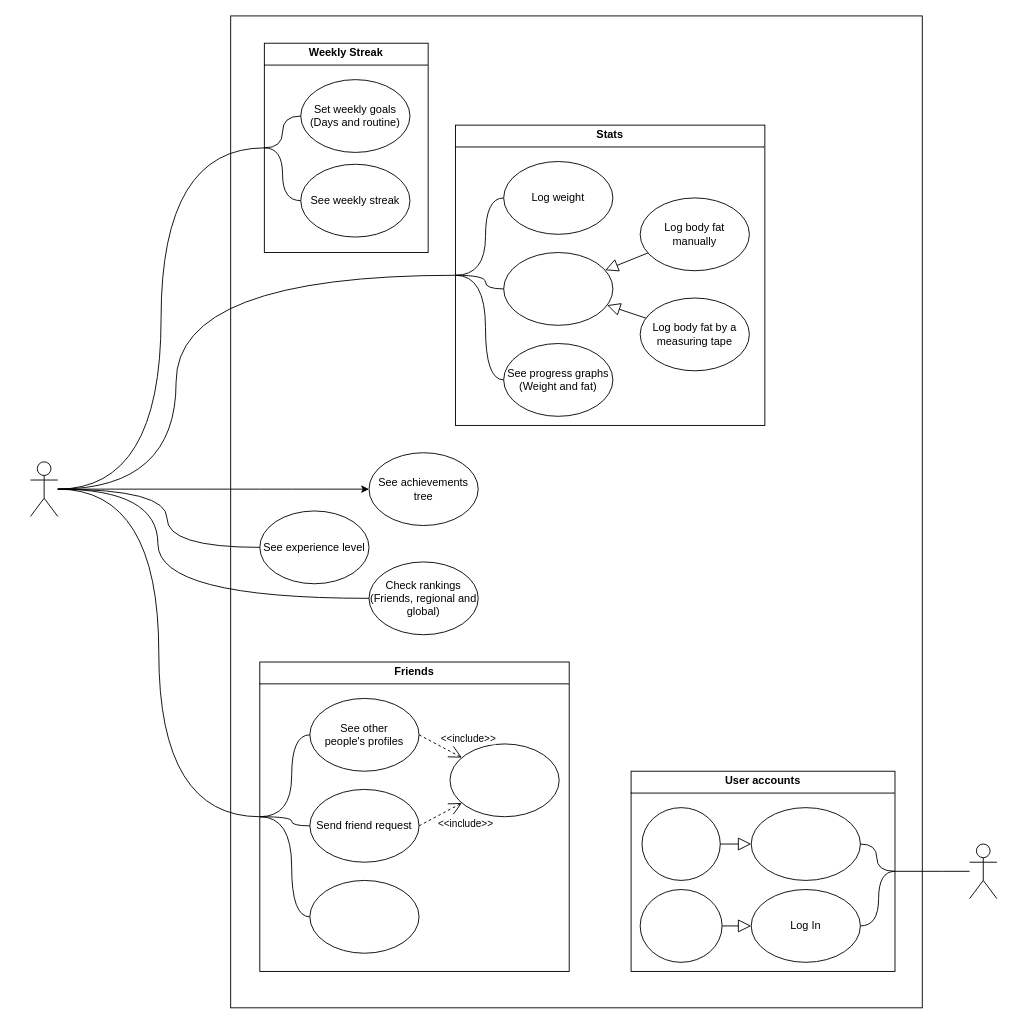
The diagram is 1035 pixels wide and 1024 high, and some of its shapes have lost their labels. The shapes that lost their labels are listed below. From the top down, each one's centre as x and y in pixels, then its label:
At point 558,288: "Log body fat".
At point 44,488: "Loged User".
At point 504,780: "Search other people's profiles".
At point 680,843: "Sing Up by Google".
At point 805,843: "Sign Up".
At point 983,871: "Unsigned User".
At point 364,916: "Delete friend".
At point 680,925: "Log In by Google".
